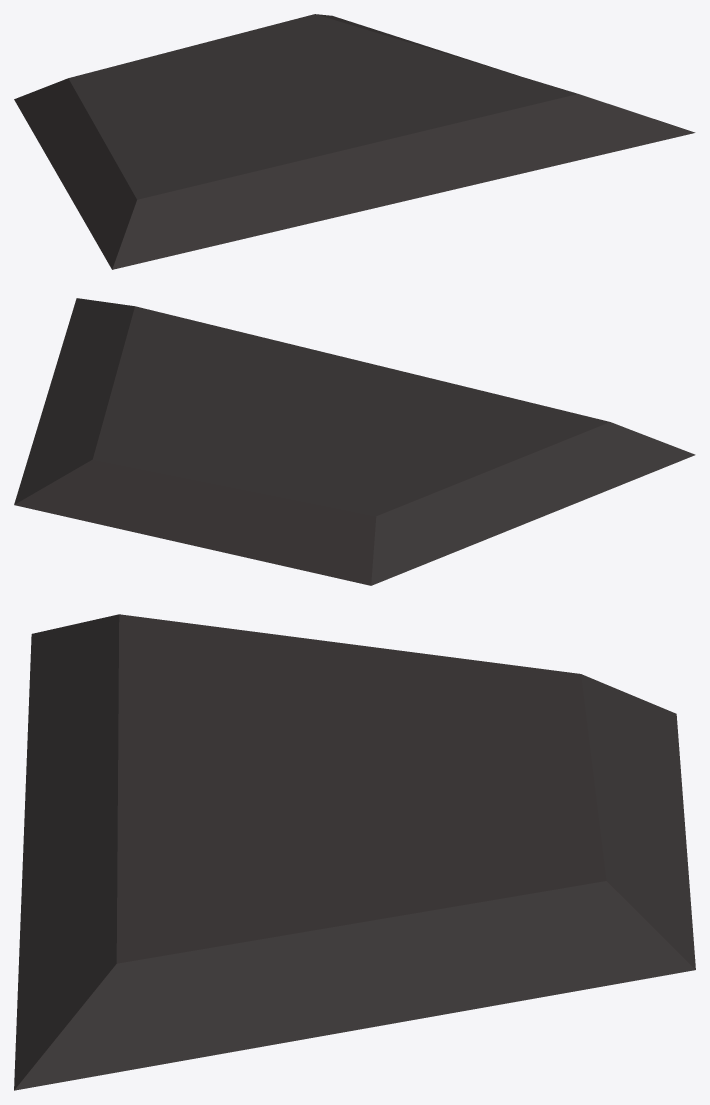
The model's file is Stone_Tile_02.glb.
3 views of the same model, one above another, from view 1: azimuth 30°, elevation 25°; view 2: azimuth 150°, elevation 25°; view 3: azimuth 270°, elevation 25° (orthographic). The views are drawn at different scales.
Parts seen in each view (by area): view 1: Stone_Tile_02; view 2: Stone_Tile_02; view 3: Stone_Tile_02.
Boxes of the visible parts, x1,y1,x2,y2 form: Stone_Tile_02: [14, 14, 695, 269]; Stone_Tile_02: [14, 298, 695, 585]; Stone_Tile_02: [14, 614, 695, 1090].
Size of what is drawn, in the model's own units: 0.6059 by 0.0376 by 0.3823.
Materials: 1 (1 with a texture image).
